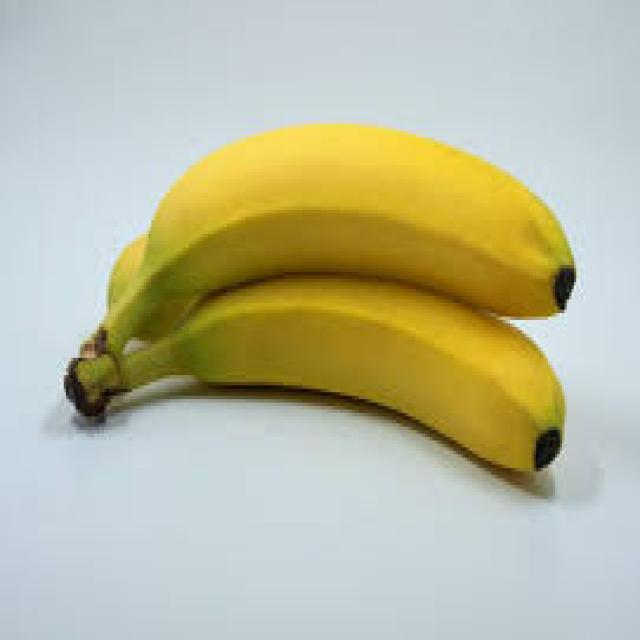banana: (62, 129, 566, 479)
